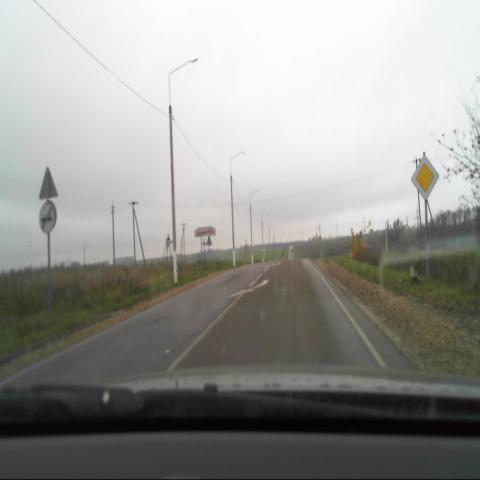3_21: (38, 201, 58, 235)
